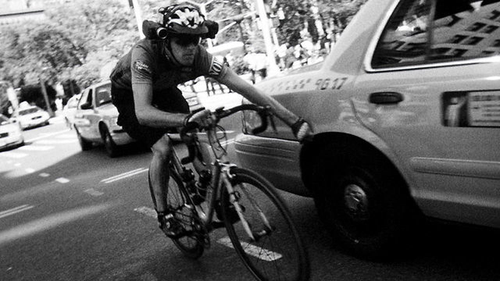bikerider: (95, 8, 330, 281)
